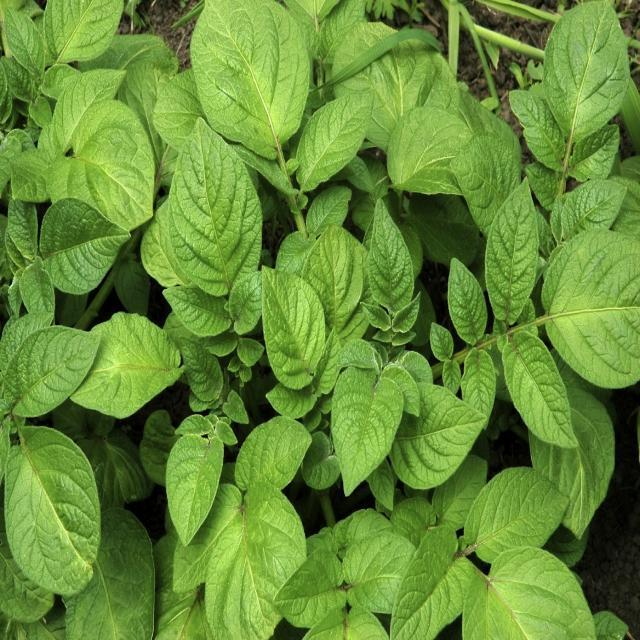Healthy Leaf: (192, 0, 308, 145), (168, 114, 260, 294), (544, 217, 640, 380), (8, 432, 103, 589), (548, 0, 632, 140), (60, 105, 156, 224), (386, 517, 464, 640), (470, 468, 565, 565), (334, 364, 402, 496), (39, 199, 130, 297), (8, 320, 100, 416), (502, 336, 580, 449), (260, 268, 329, 386), (299, 80, 373, 190), (488, 165, 538, 324), (390, 108, 472, 196), (166, 434, 226, 544), (270, 550, 346, 632), (366, 196, 414, 319), (242, 418, 306, 500), (444, 255, 488, 345), (462, 350, 495, 420)
